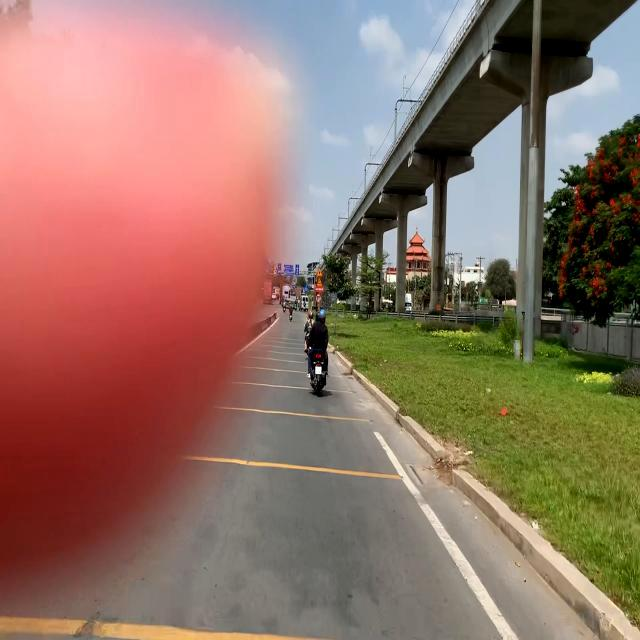Cam re phai: (316, 292, 322, 304)
Di cham: (316, 278, 323, 286)
